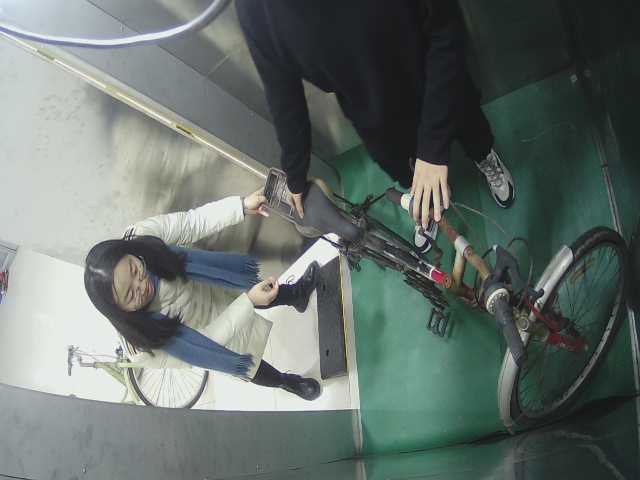bicycle: (249, 147, 628, 439), (60, 331, 218, 415)
person: (234, 1, 518, 246), (93, 182, 326, 403)
